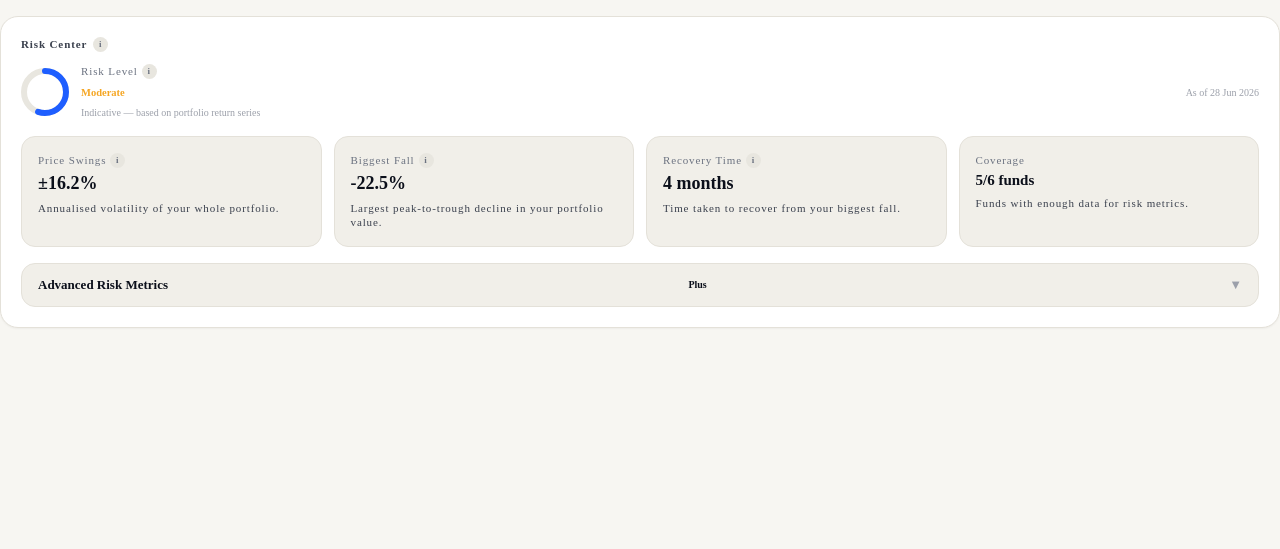
it: RiskSection › advanced panel with true series basis => real Sharpe/Sortino/Positive-1Y-Windows render
Click the button "Advanced Risk Metrics Plus ▼": click(103, 284) [21,263,1259,307]
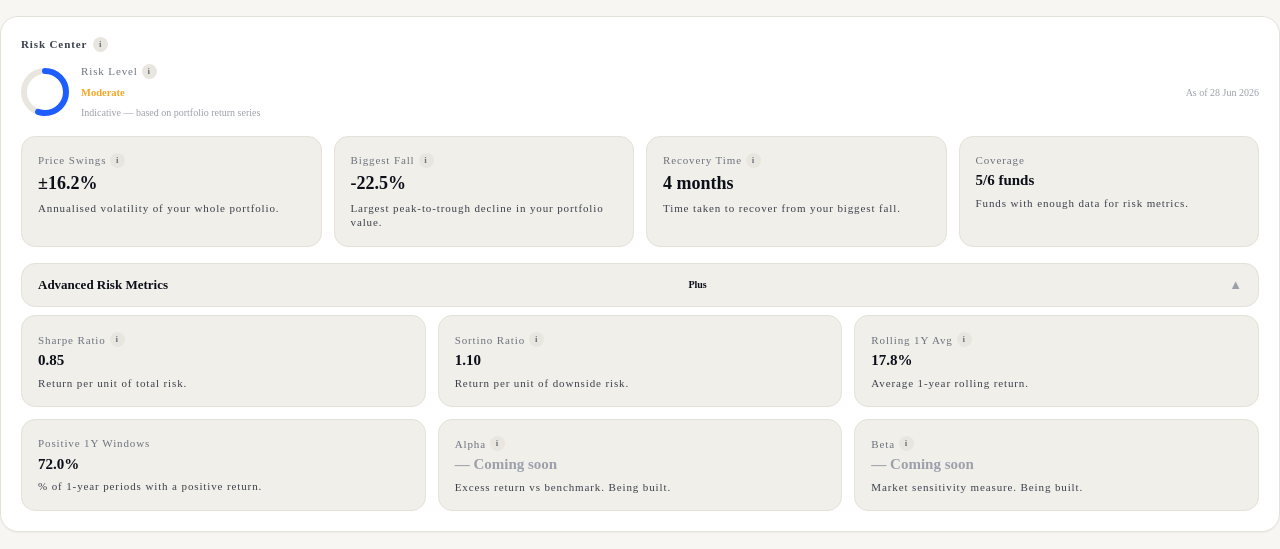
Expected: the text "Sharpe Ratio" is shown, [38,334,106,346]
Expected: the text "0.85" is shown, [38,352,64,368]
Expected: the text "Sortino Ratio" is shown, [455,334,525,346]
